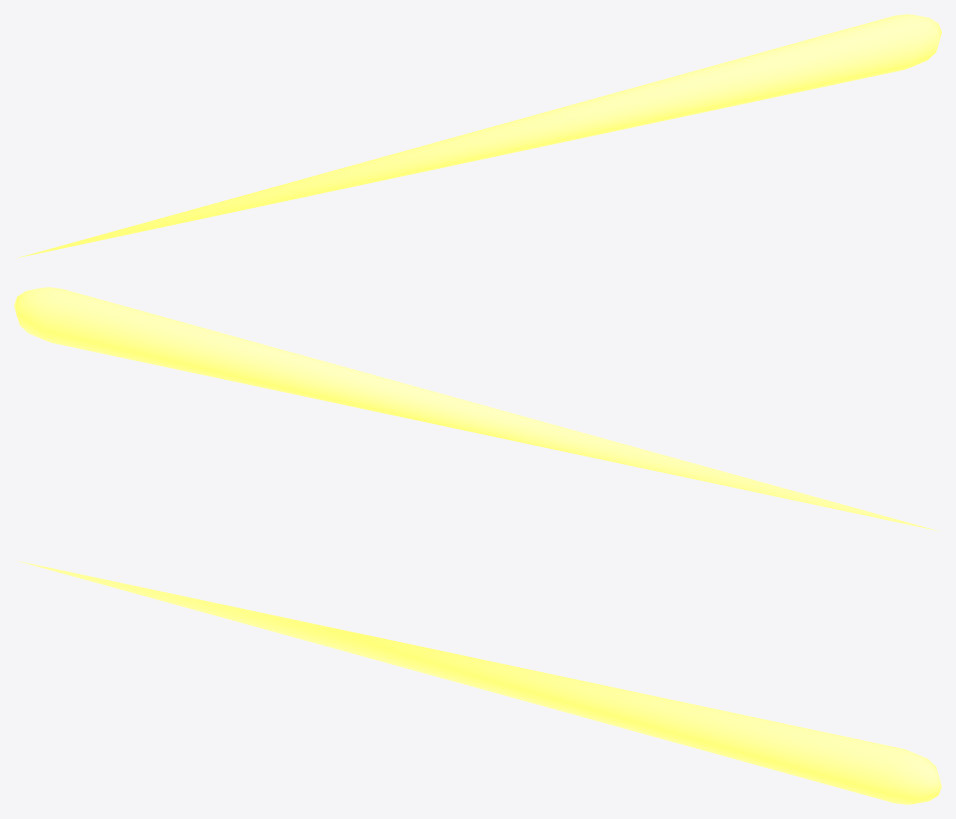
Rendered from bullet.fbx.
3 views of the same model, one above another, from view 1: azimuth 30°, elevation 25°; view 2: azimuth 150°, elevation 25°; view 3: azimuth 330°, elevation 25° (orthographic).
Visible parts, largest first — view 1: Sphere; view 2: Sphere; view 3: Sphere.
Boxes of the visible parts, x1,y1,x2,y2 form: Sphere: (18, 14, 941, 257); Sphere: (14, 287, 937, 530); Sphere: (18, 561, 941, 804).
Bounding box in the file's own units: 0.0124 × 0.0124 × 0.2407.
